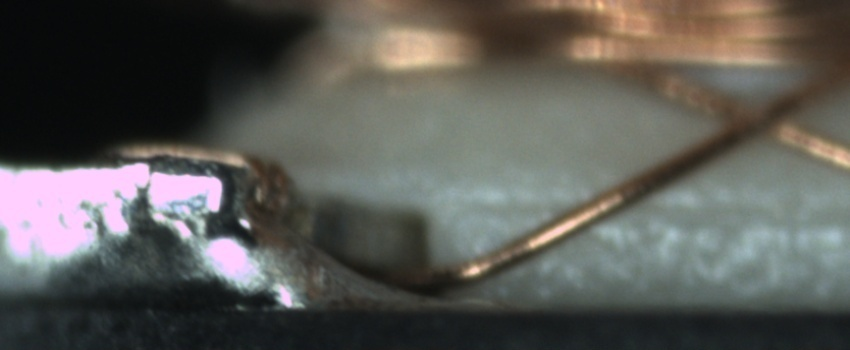CL: (698, 83, 831, 147)
DL: (457, 180, 849, 240)
TE: (104, 135, 297, 221)
